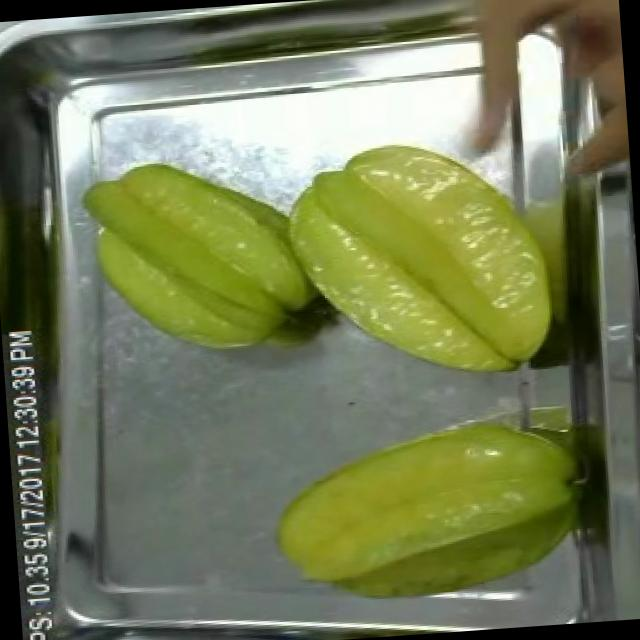fruit: (270, 122, 570, 400), (255, 401, 608, 624), (72, 140, 322, 372)
